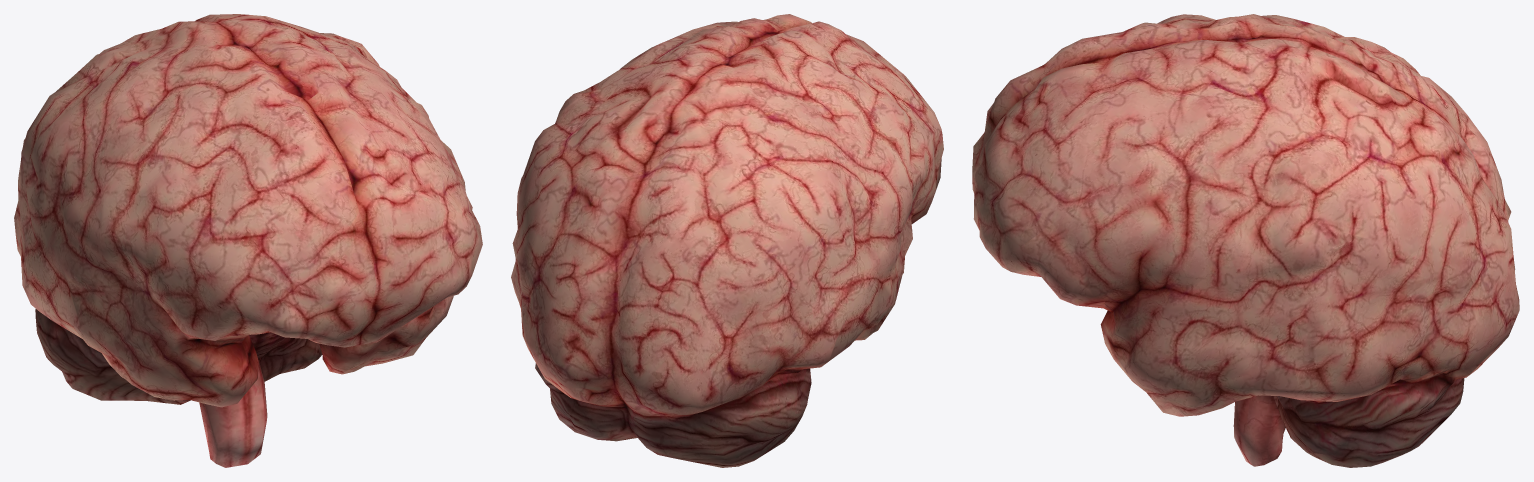
Rendered from cerebro.glb.
3 views of the same model, side by side, from view 1: azimuth 30°, elevation 25°; view 2: azimuth 150°, elevation 25°; view 3: azimuth 270°, elevation 25° (orthographic). The views are drawn at different scales.
Visible parts, largest first — view 1: brain.1_1; view 2: brain.1_1; view 3: brain.1_1.
Part boxes in pixels (x1=…): brain.1_1: x1=14, y1=14, x2=482, y2=467; brain.1_1: x1=511, y1=14, x2=943, y2=467; brain.1_1: x1=972, y1=14, x2=1519, y2=467.
Bounding box in the file's own units: 0.7609 × 0.8537 × 0.991.
Materials: 1 (1 with a texture image).
